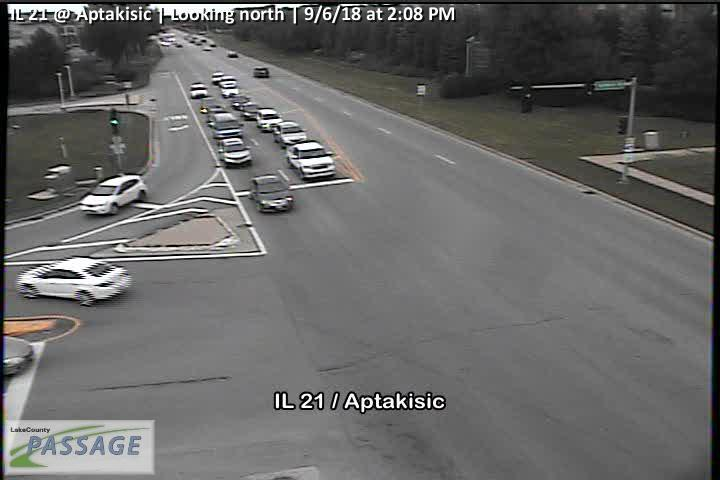SUV: (78, 175, 147, 216), (290, 142, 337, 179)
Sedan: (15, 258, 129, 305), (250, 174, 291, 213), (220, 137, 250, 165), (214, 113, 245, 138), (273, 122, 306, 145), (254, 110, 283, 131), (243, 102, 260, 121), (189, 83, 208, 97)
